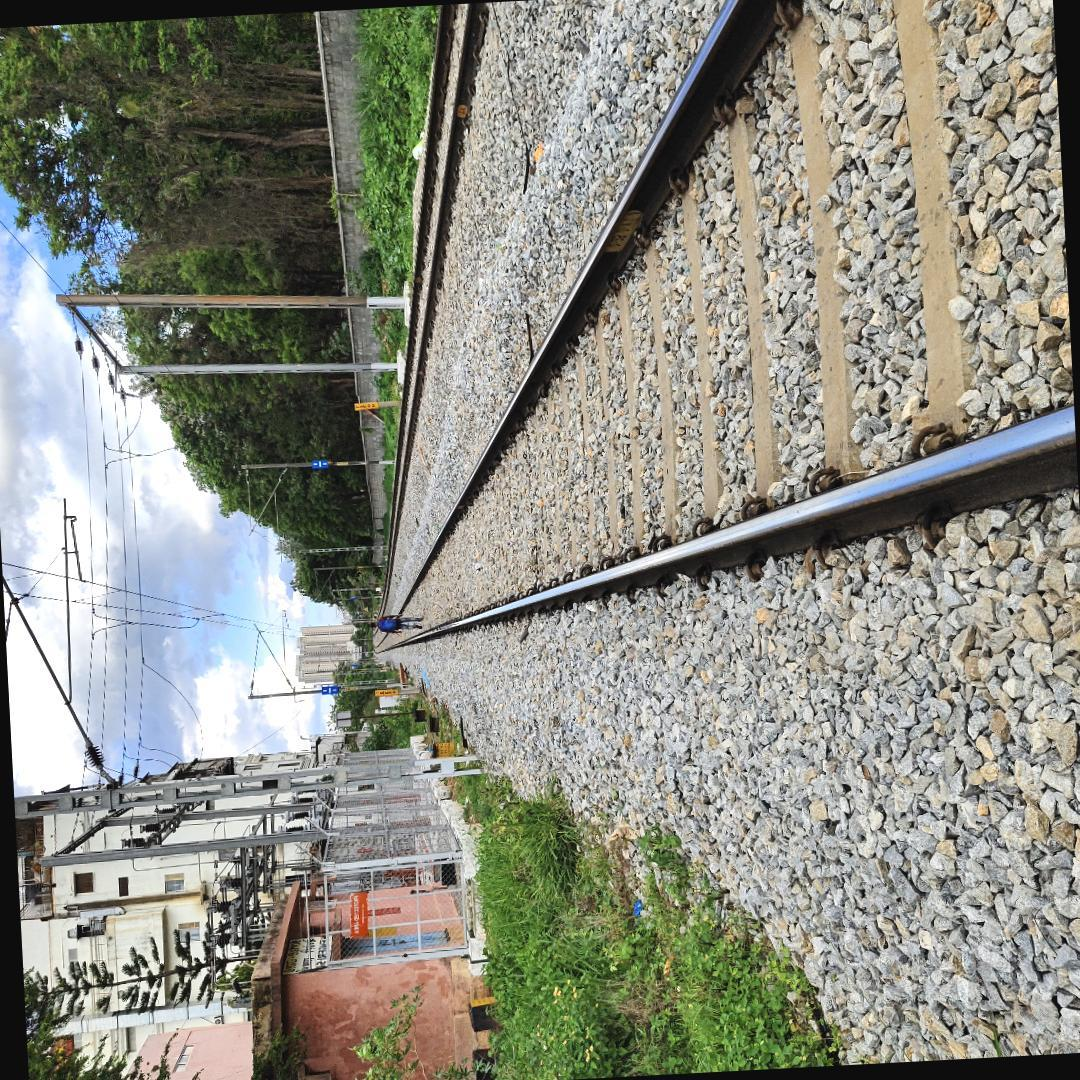standing: (367, 611, 426, 638)
